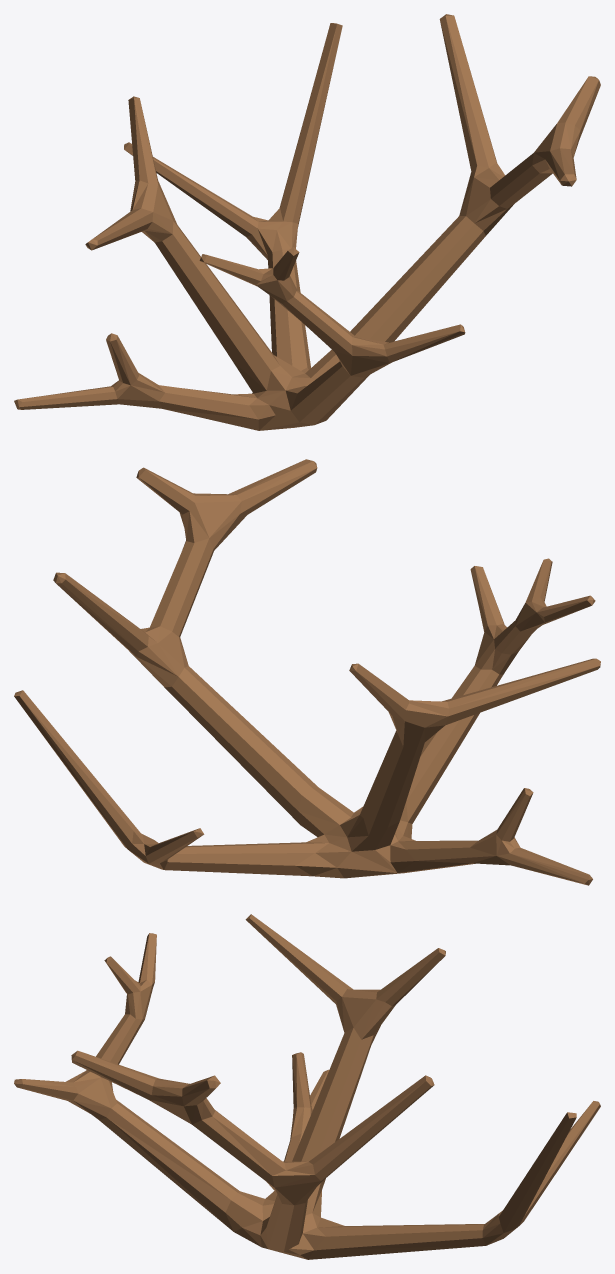
File: Bush_1 Withered.fbx
3 renders of one model, top to bottom at view 1: azimuth 30°, elevation 25°; view 2: azimuth 150°, elevation 25°; view 3: azimuth 270°, elevation 25°, orthographic. The views are drawn at different scales.
Visible parts, largest first — view 1: Bush1Withered_mesh; view 2: Bush1Withered_mesh; view 3: Bush1Withered_mesh.
Part boxes in pixels (box(x1,y1,x2,y2)): Bush1Withered_mesh: box(14, 14, 600, 430); Bush1Withered_mesh: box(14, 459, 600, 885); Bush1Withered_mesh: box(14, 914, 600, 1259).
Bounding box in the file's own units: 181 × 103 × 188.
